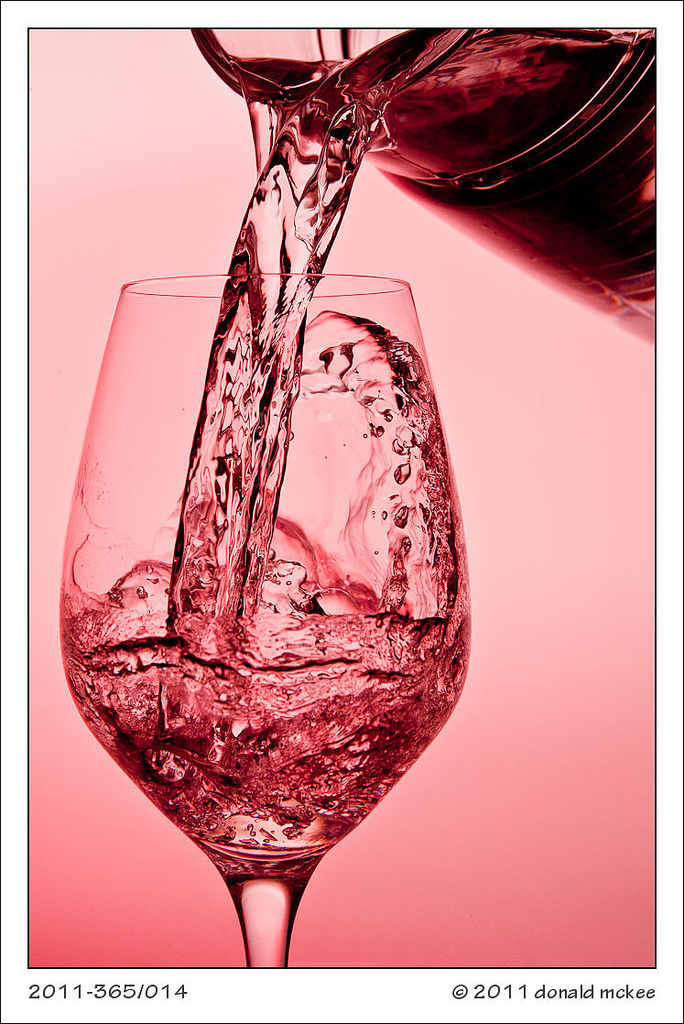glass of water: (53, 238, 478, 963)
